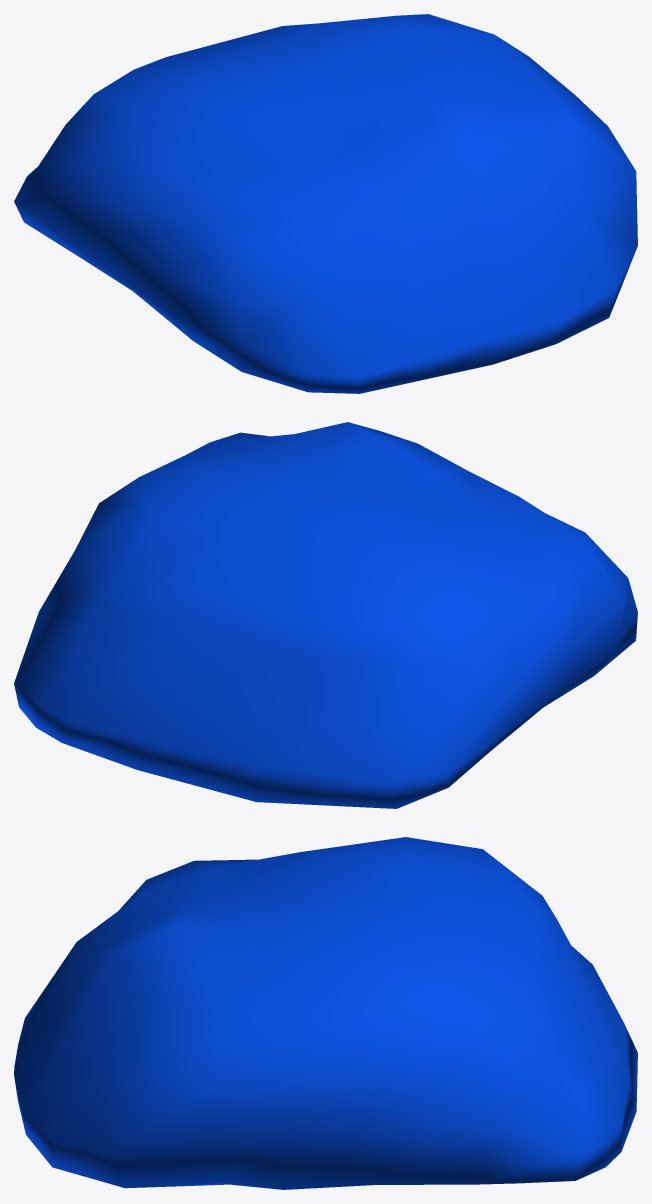
File: Mega_Rock_02B_Lod1.fbx
3 renders of one model, top to bottom at view 1: azimuth 30°, elevation 25°; view 2: azimuth 150°, elevation 25°; view 3: azimuth 270°, elevation 25°, orthographic. The views are drawn at different scales.
Parts seen in each view (by area): view 1: Mega_Rock_02B_Lod1; view 2: Mega_Rock_02B_Lod1; view 3: Mega_Rock_02B_Lod1.
Boxes of the visible parts, box(x1,y1,x2,y2) form: Mega_Rock_02B_Lod1: box(14, 14, 637, 393); Mega_Rock_02B_Lod1: box(14, 422, 637, 808); Mega_Rock_02B_Lod1: box(14, 837, 637, 1189).
Size of the model in its own units: 4450 by 2216 by 4949.
